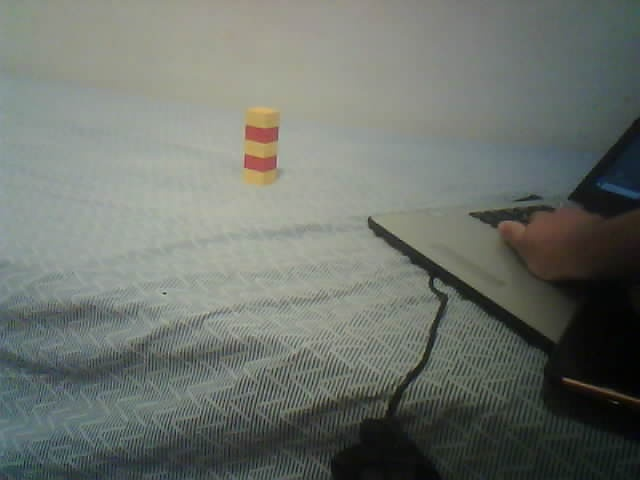lego: (240, 106, 281, 187)
